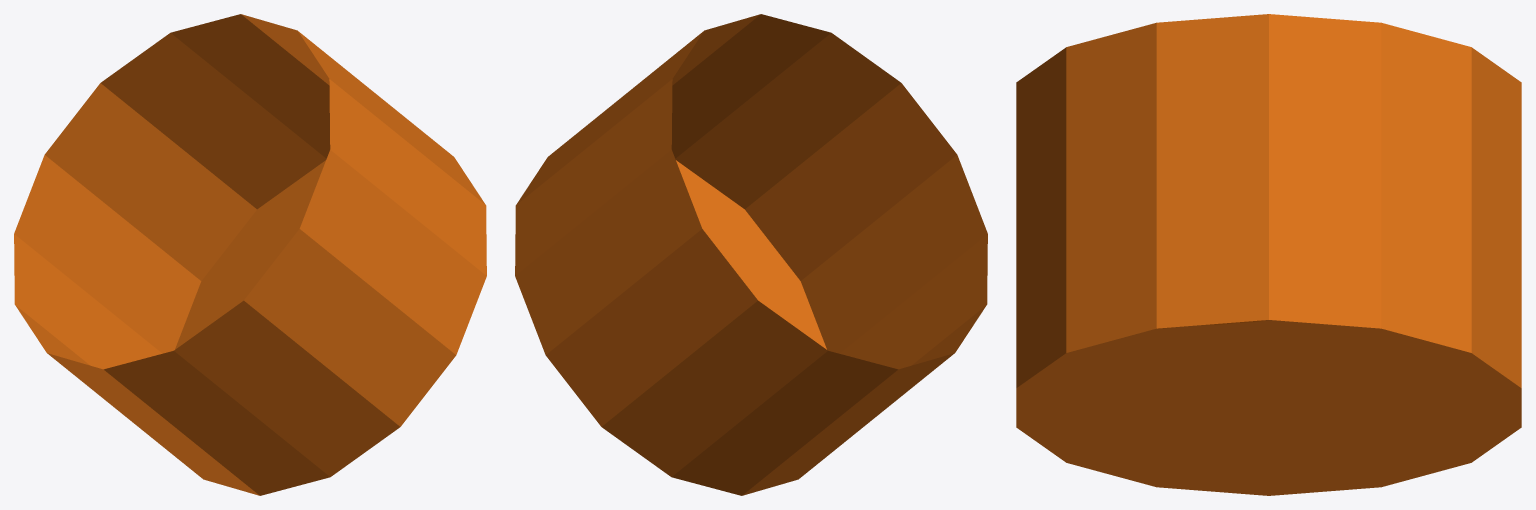
Rendered from copper0.1.fbx.
3 views of the same model, side by side, from view 1: azimuth 30°, elevation 25°; view 2: azimuth 150°, elevation 25°; view 3: azimuth 270°, elevation 25° (orthographic). The views are drawn at different scales.
Visible parts, largest first — view 1: copper; view 2: copper; view 3: copper.
Part boxes in pixels (<box>): copper: <box>14,14,486,495</box>; copper: <box>515,14,987,495</box>; copper: <box>1016,14,1521,495</box>.
Size of the model in its own units: 1.68 by 1.68 by 1.43.
